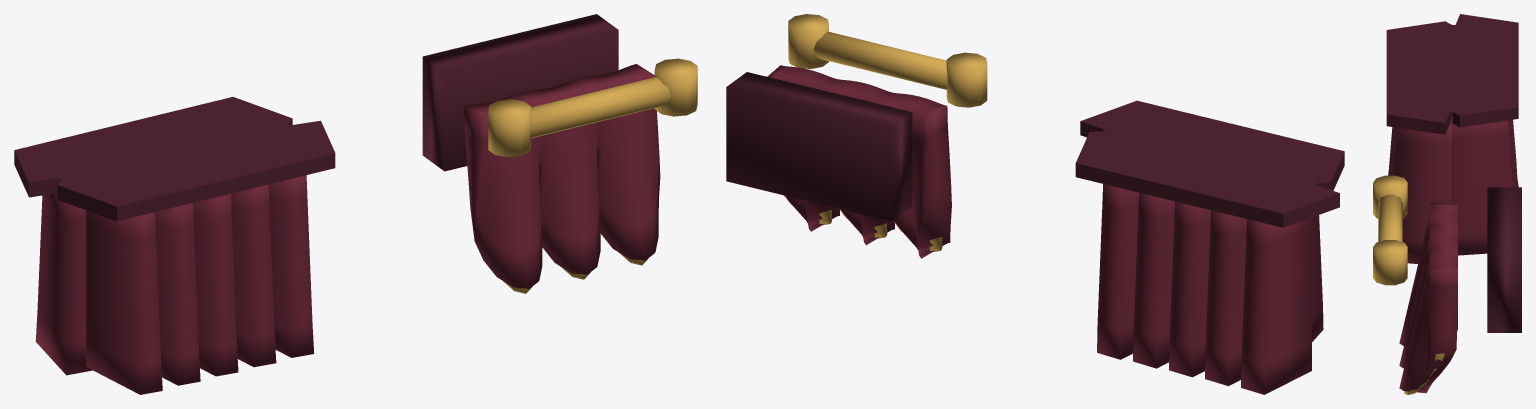
File: lounge_drapes.glb
3 renders of one model, left to right at view 1: azimuth 30°, elevation 25°; view 2: azimuth 150°, elevation 25°; view 3: azimuth 270°, elevation 25°, orthographic. The views are drawn at different scales.
Visible parts, largest first — view 1: DrapePanel, PelmetSwags, DrapeHeading, PelmetBack, PelmetRod, PelmetFinialBall-1, PelmetFinialBall1; view 2: DrapePanel, DrapeHeading, PelmetBack, PelmetSwags, PelmetRod, PelmetFinialBall-1, PelmetFinialBall1, PelmetTrim; view 3: DrapeHeading, DrapePanel, PelmetSwags, PelmetBack, PelmetFinialBall1, PelmetRod, PelmetFinialBall-1, PelmetTrim.
Boxes of the visible parts, x1=… form: DrapePanel: x1=35, y1=175, x2=314, y2=394; PelmetSwags: x1=464, y1=64, x2=660, y2=288; DrapeHeading: x1=14, y1=97, x2=335, y2=221; PelmetBack: x1=422, y1=14, x2=618, y2=171; PelmetRod: x1=530, y1=77, x2=670, y2=138; PelmetFinialBall-1: x1=488, y1=99, x2=530, y2=157; PelmetFinialBall1: x1=654, y1=58, x2=697, y2=116; DrapePanel: x1=1097, y1=184, x2=1323, y2=394; DrapeHeading: x1=1075, y1=100, x2=1344, y2=227; PelmetBack: x1=726, y1=72, x2=912, y2=221; PelmetSwags: x1=767, y1=65, x2=951, y2=258; PelmetRod: x1=813, y1=31, x2=947, y2=89; PelmetFinialBall-1: x1=946, y1=52, x2=987, y2=107; PelmetFinialBall1: x1=788, y1=14, x2=828, y2=68; PelmetTrim: x1=785, y1=196, x2=942, y2=251; DrapeHeading: x1=1386, y1=14, x2=1518, y2=134; DrapePanel: x1=1388, y1=117, x2=1518, y2=263; PelmetSwags: x1=1399, y1=202, x2=1457, y2=393; PelmetBack: x1=1487, y1=187, x2=1521, y2=332; PelmetFinialBall1: x1=1373, y1=240, x2=1407, y2=285; PelmetRod: x1=1378, y1=194, x2=1402, y2=241; PelmetFinialBall-1: x1=1373, y1=175, x2=1407, y2=218; PelmetTrim: x1=1404, y1=353, x2=1444, y2=394.
Bounding box in the file's own units: 3.28 × 1 × 0.86.
